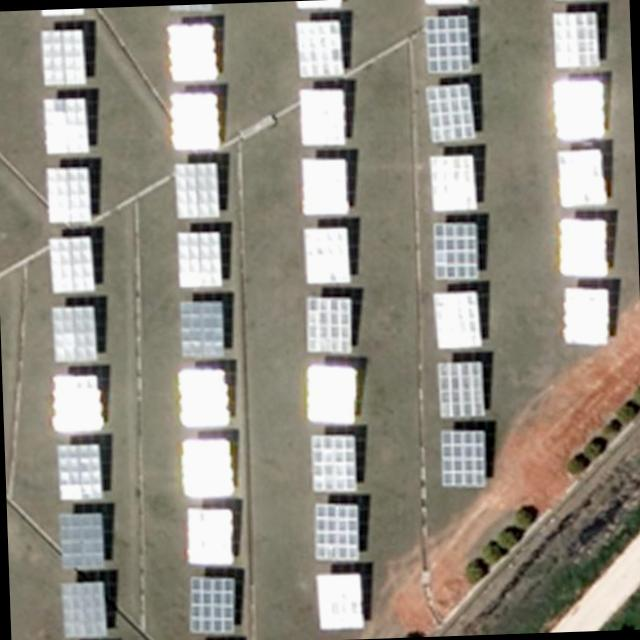solar: (304, 356, 358, 428), (302, 288, 355, 358), (166, 88, 221, 154), (561, 284, 615, 350), (558, 215, 610, 282), (300, 154, 354, 218), (298, 84, 352, 148), (551, 76, 604, 141), (422, 12, 473, 78), (292, 18, 346, 80), (302, 222, 354, 286), (51, 372, 104, 434), (167, 21, 220, 83), (438, 425, 490, 487), (59, 578, 111, 640), (550, 7, 600, 71), (557, 146, 608, 208), (433, 289, 484, 351), (432, 219, 479, 286), (47, 233, 98, 294), (426, 82, 476, 144), (440, 358, 488, 421), (314, 499, 362, 562), (46, 162, 94, 225), (43, 94, 93, 154), (313, 432, 361, 494), (192, 573, 240, 635), (179, 297, 227, 359), (57, 442, 106, 502), (315, 572, 367, 628), (58, 512, 108, 570), (428, 154, 478, 212), (174, 157, 220, 220), (42, 26, 90, 86), (177, 229, 223, 287), (53, 304, 99, 358)
